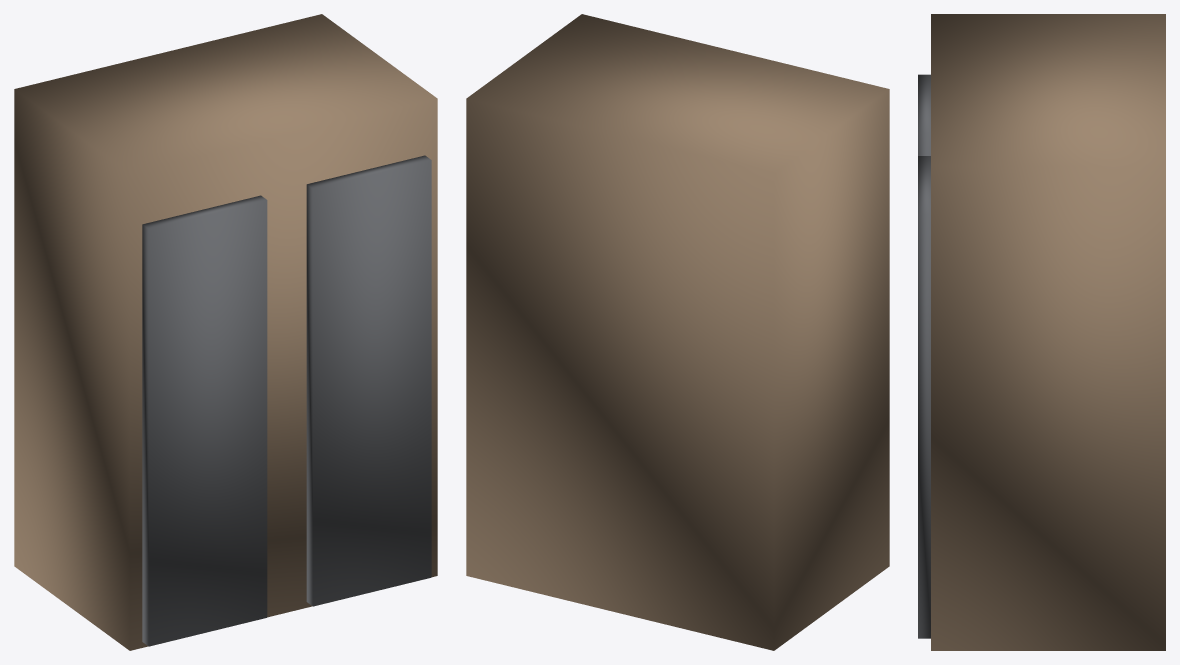
Rendered from confessional_booth__deep.glb.
The picture shows the model from 3 angles, left to right: view 1: azimuth 30°, elevation 25°; view 2: azimuth 150°, elevation 25°; view 3: azimuth 270°, elevation 25°; orthographic projection.
Visible parts, largest first — view 1: world; view 2: world; view 3: world.
Part boxes in pixels (x1,y1,x2,y2): world: (14, 14, 437, 650); world: (466, 14, 889, 650); world: (918, 14, 1165, 650).
Bounding box in the file's own units: 1.35 × 2 × 0.9272.
